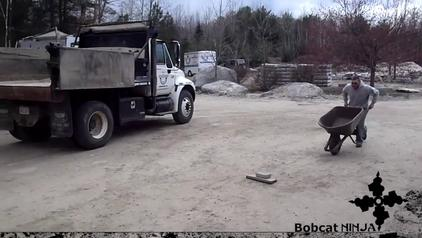down: (374, 204, 387, 227)
sit: (369, 173, 383, 200)
stay: (343, 72, 376, 129), (374, 204, 387, 227)
walk: (369, 173, 383, 200)
